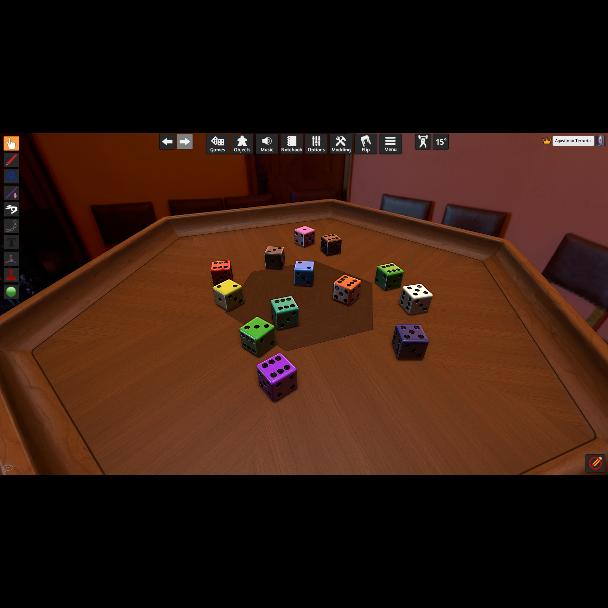d6: (256, 352, 298, 400), (239, 317, 275, 357), (394, 324, 430, 360), (212, 280, 244, 312), (401, 284, 433, 316), (270, 296, 300, 330), (332, 276, 360, 306), (374, 264, 400, 290), (210, 260, 232, 286), (294, 260, 314, 286), (264, 246, 284, 270), (319, 234, 340, 256), (294, 226, 314, 248)
